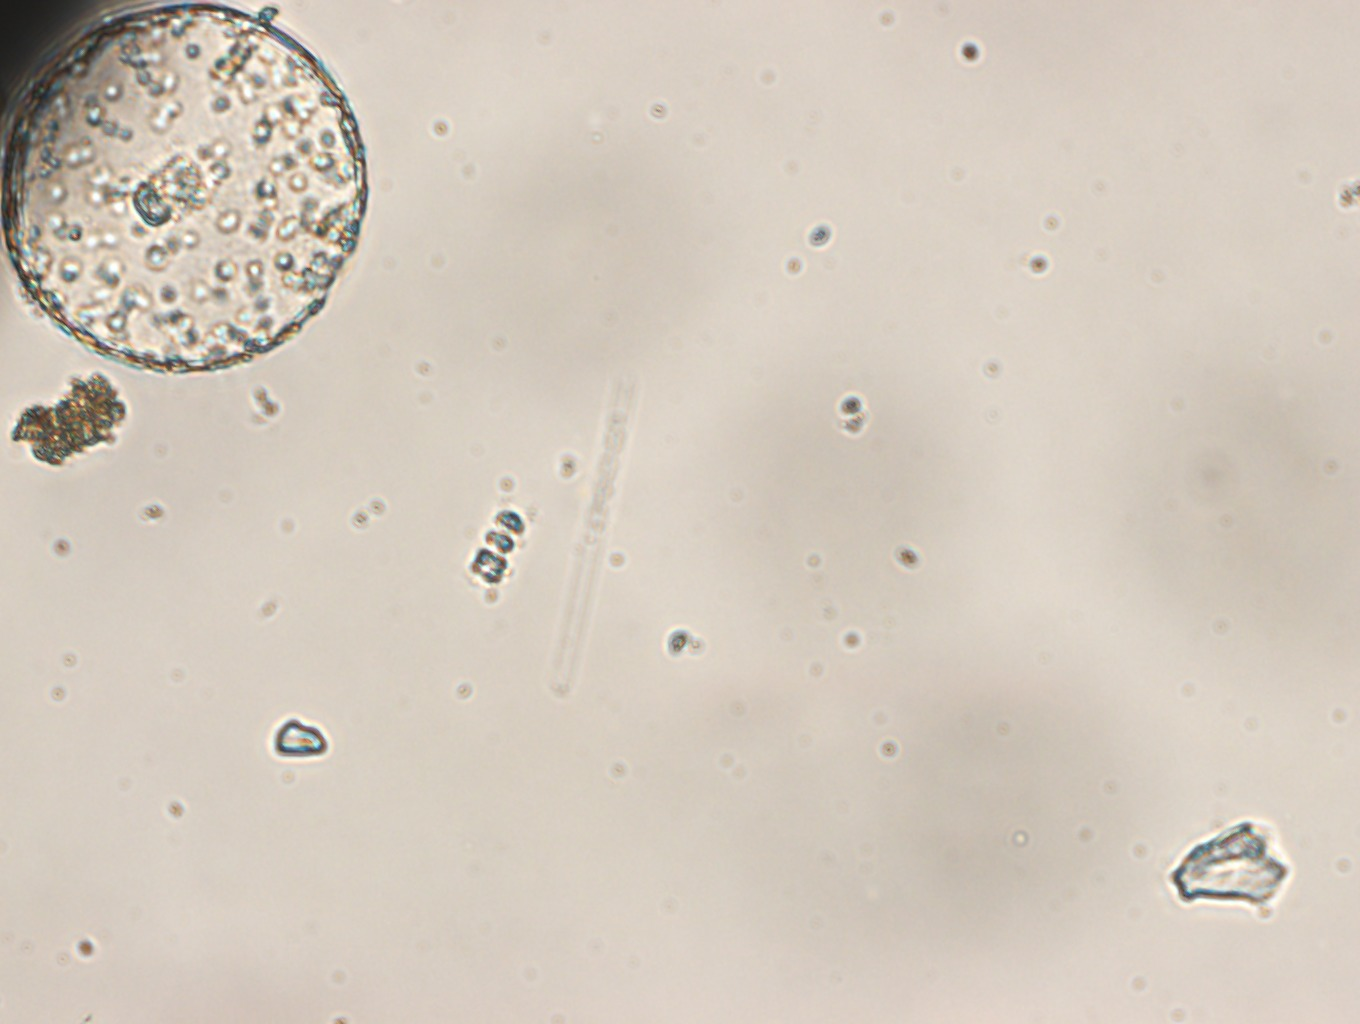coscinodiscus: (1, 1, 373, 376)
